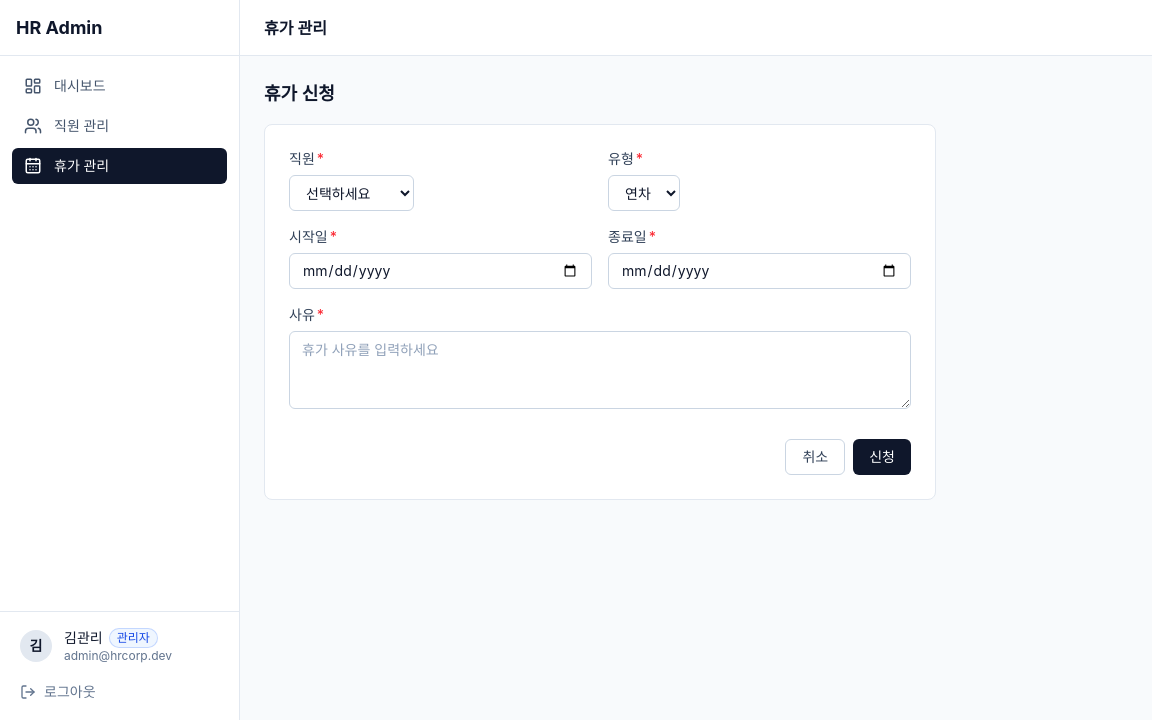
Test: LeaveCreatePage 잔여 연차 › 잔여를 초과하는 연차는 제출 전에 막는다
The image size is (1152, 720).
Select "조우진 (차장)" in the 1st dropdown at (352, 193), box top-left (289, 175), bottom-right (414, 211)
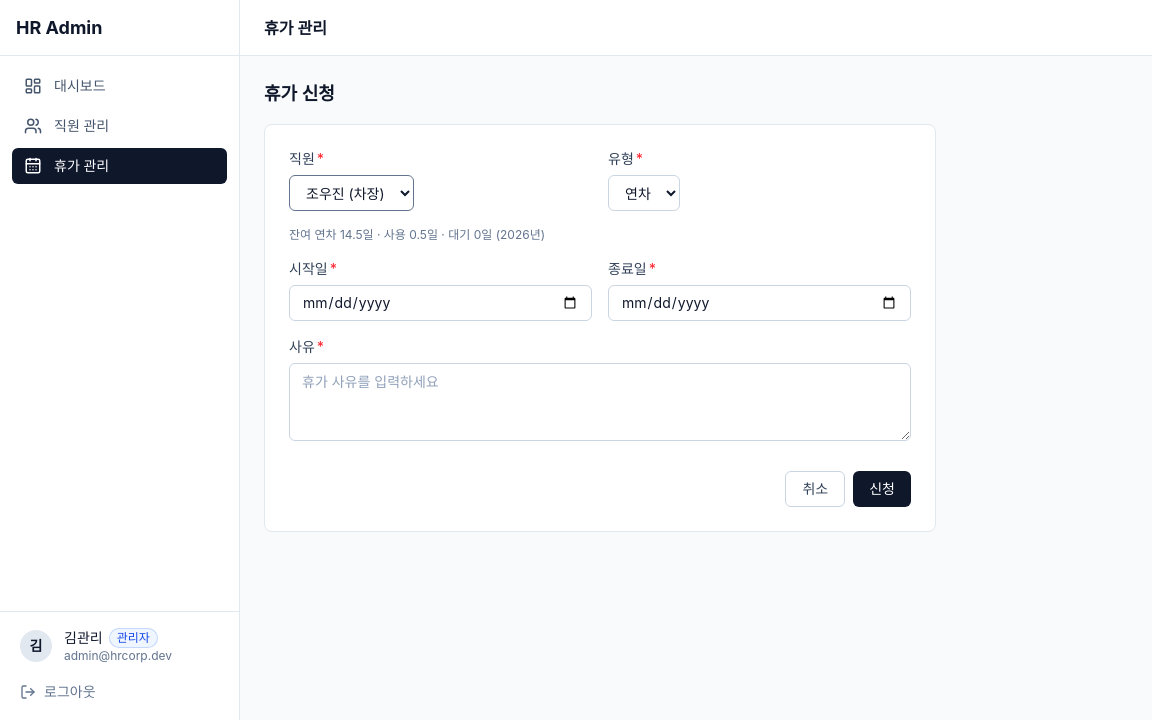
Check: the text "잔여 연차 14.5일 · 사용 0.5일 · 대기 0일 (2026년)" is shown, box top-left (289, 227), bottom-right (545, 242)
Type "2026-09-01" into the date field labelled "시작일*" at (440, 303), box top-left (289, 285), bottom-right (592, 321)
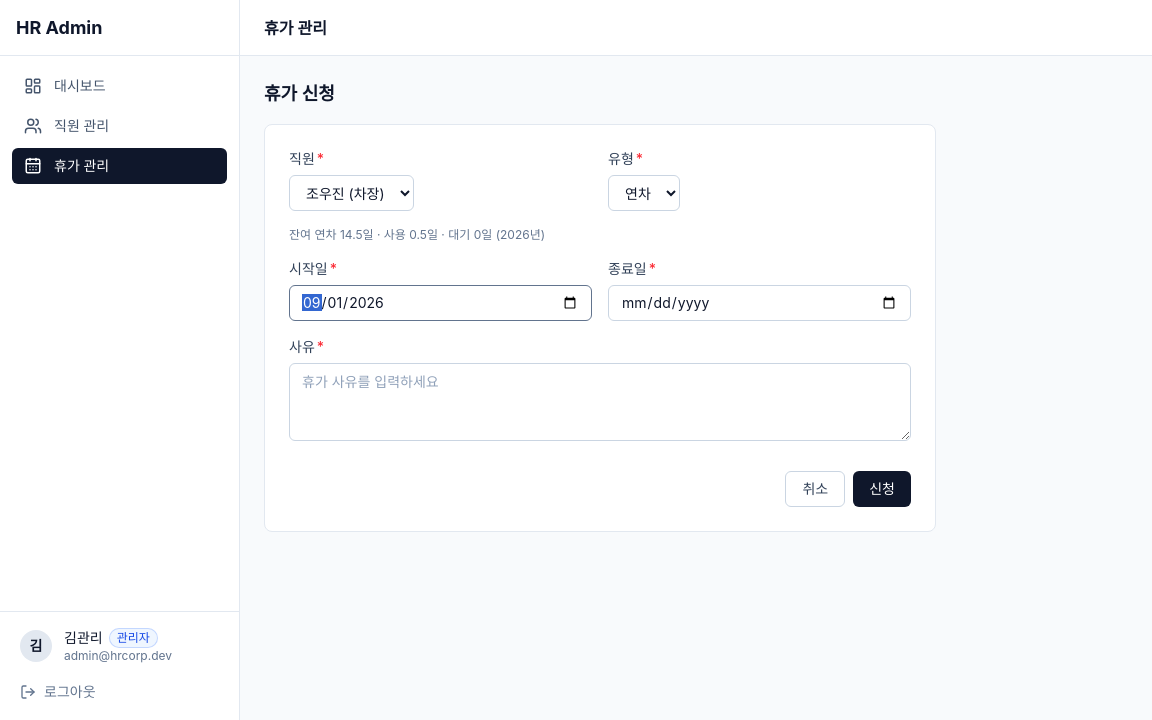
Type "2026-09-30" into the date field labelled "종료일*" at (760, 303), box top-left (608, 285), bottom-right (911, 321)
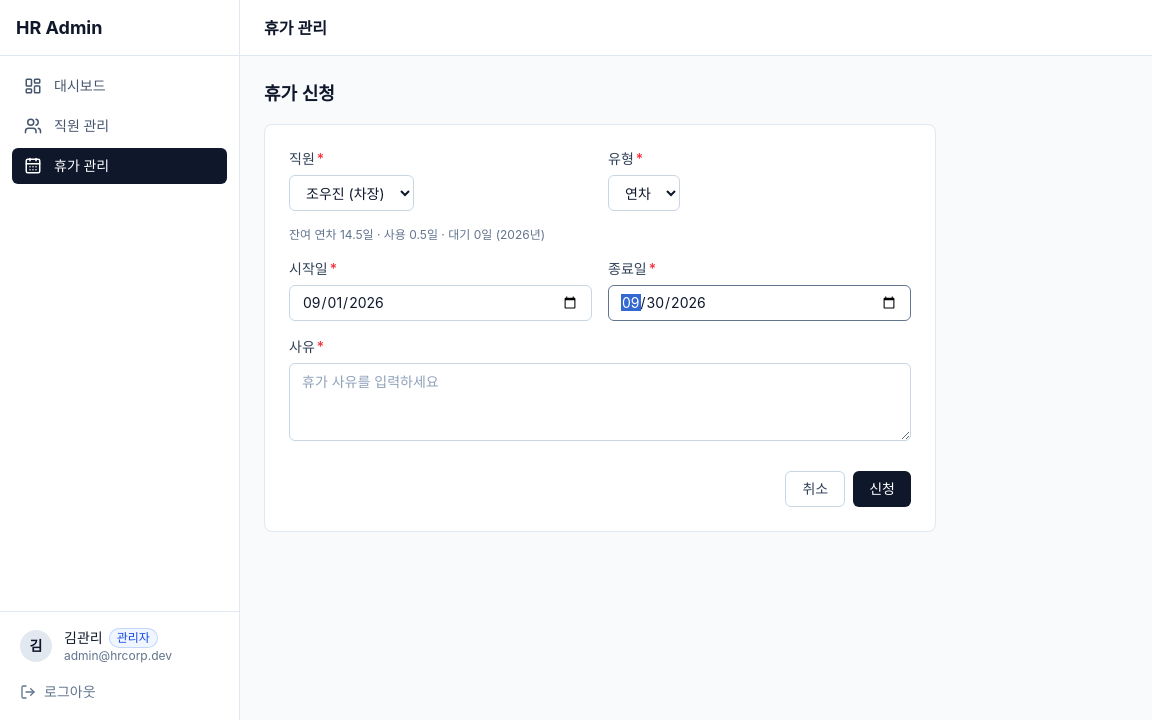
Type "가족 여행" into the text box labelled "사유*" at (600, 402), box top-left (289, 363), bottom-right (911, 441)
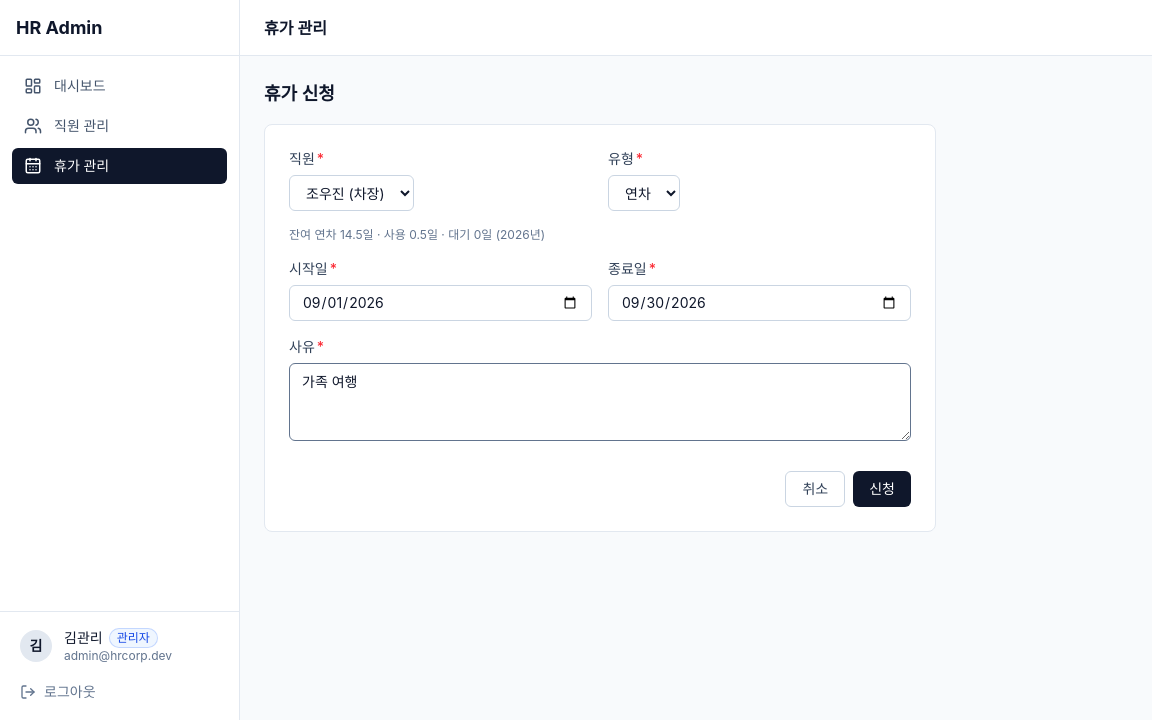
Click the button "신청" at (882, 489), box top-left (853, 471), bottom-right (911, 507)
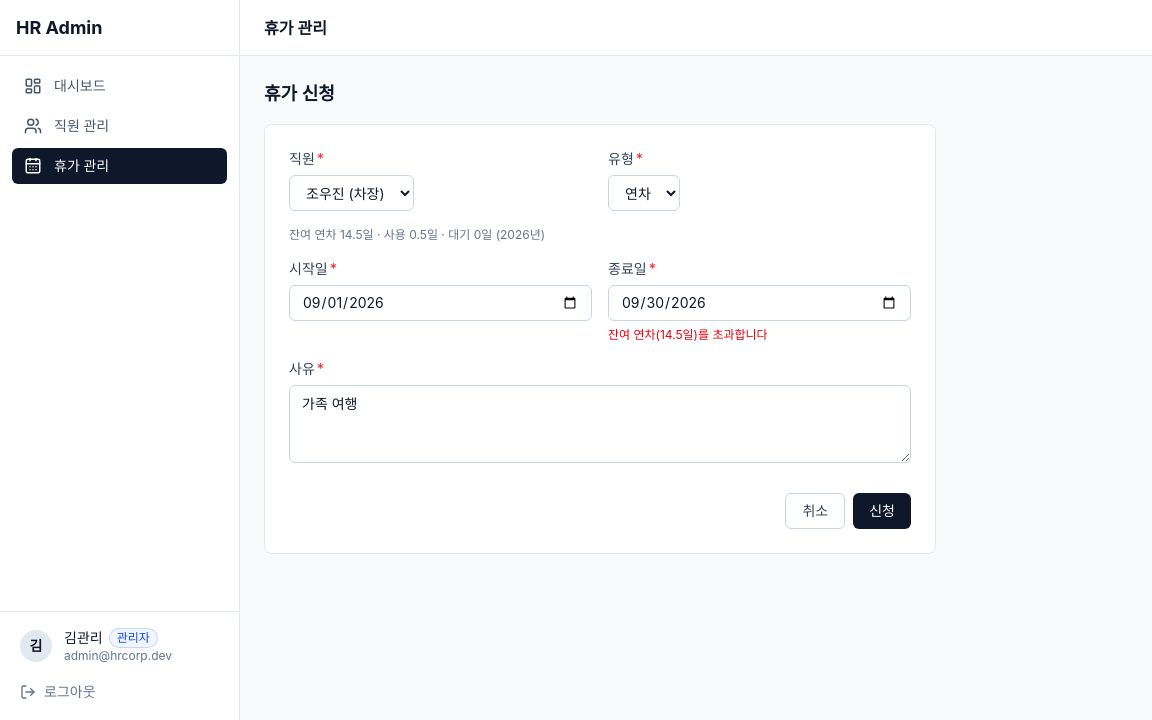
Check: the text "잔여 연차(14.5일)를 초과합니다" is shown, box top-left (608, 327), bottom-right (768, 342)
